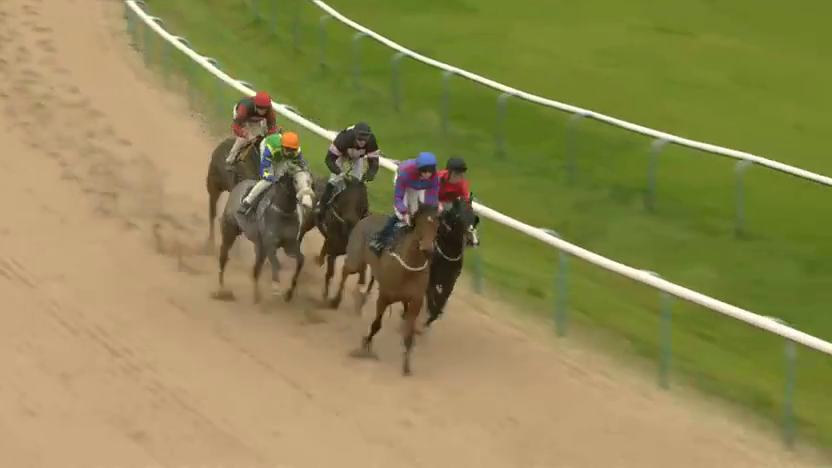jockey: (326, 123, 375, 208), (393, 154, 436, 246), (229, 89, 276, 172), (259, 131, 305, 215), (436, 158, 473, 229)
